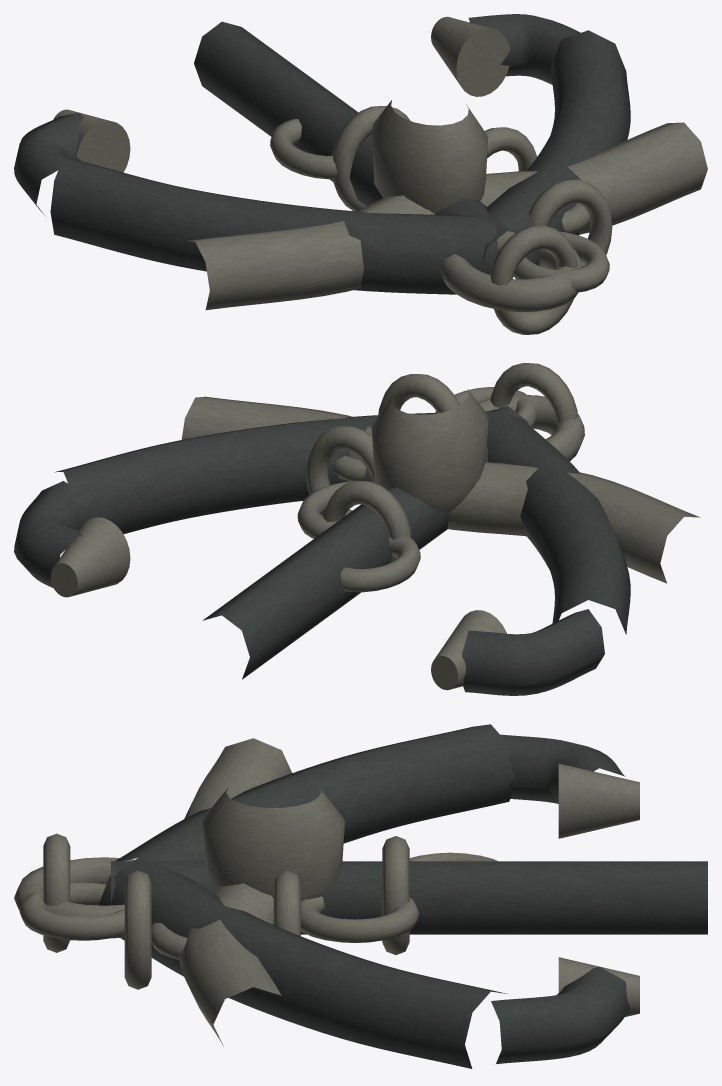
Rendered from anchor.glb.
3 renders of one model, top to bottom at view 1: azimuth 30°, elevation 25°; view 2: azimuth 150°, elevation 25°; view 3: azimuth 270°, elevation 25°, orthographic. The views are drawn at different scales.
Visible parts, largest first — view 1: anchor; view 2: anchor; view 3: anchor.
Boxes of the visible parts, x1,y1,x2,y2 form: anchor: (14,14,707,334); anchor: (14,363,700,695); anchor: (14,724,707,1068).
Bounding box in the file's own units: 1.4 × 0.35 × 1.4.
1 material, 1 textured.
